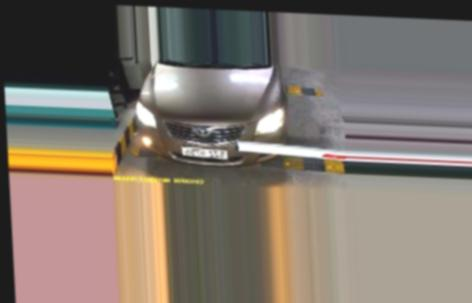License_Plate: (180, 144, 229, 159)
